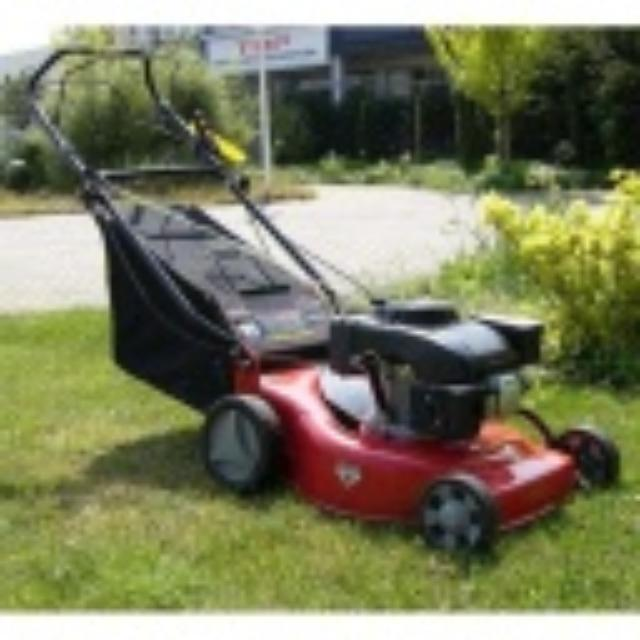Rotary-Mower: (20, 41, 620, 556)
